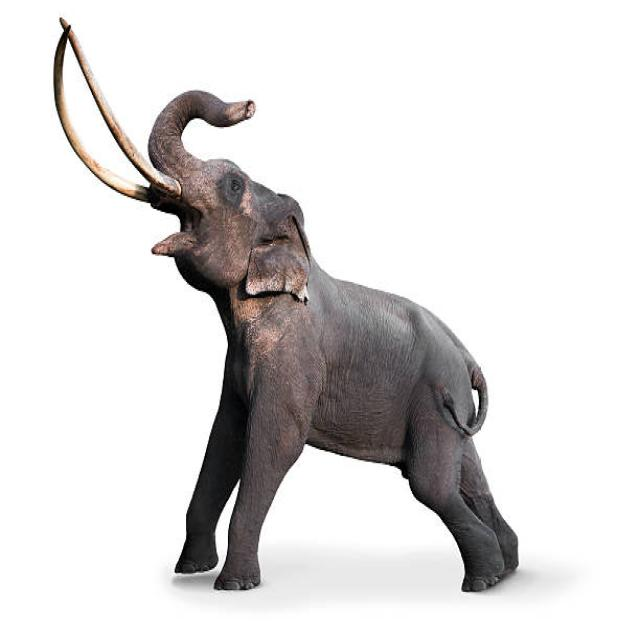Elephant: (70, 43, 516, 600)
